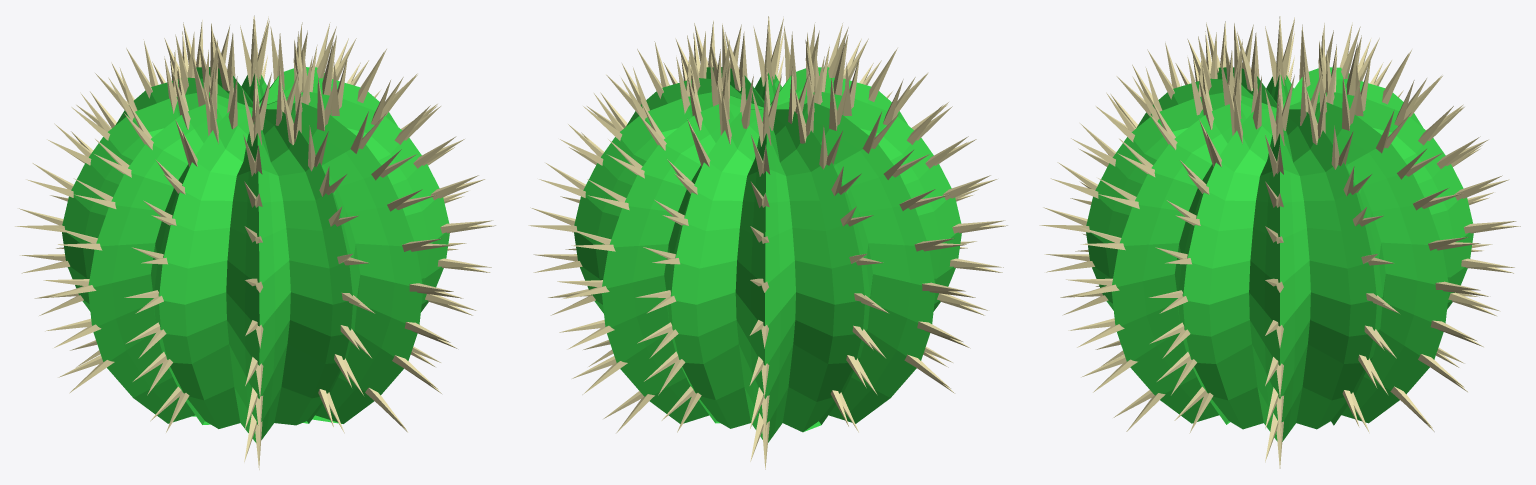
File: cacti1.fbx
3 views of the same model, side by side, from view 1: azimuth 30°, elevation 25°; view 2: azimuth 150°, elevation 25°; view 3: azimuth 270°, elevation 25° (orthographic).
Parts seen in each view (by area): view 1: CactusBody.003, CactusBody.003|spike|Dupli|19, CactusBody.003|spike|Dupli|34, CactusBody.003|spike|Dupli|58, CactusBody.003|spike|Dupli|22; view 2: CactusBody.003, CactusBody.003|spike|Dupli|23, CactusBody.003|spike|Dupli|32, CactusBody.003|spike|Dupli|71; view 3: CactusBody.003, CactusBody.003|spike|Dupli|21, CactusBody.003|spike|Dupli|36, CactusBody.003|spike|Dupli|46.
Boxes of the visible parts, x1,y1,x2,y2 form: CactusBody.003: (62, 67, 449, 442); CactusBody.003|spike|Dupli|19: (213, 33, 235, 91); CactusBody.003|spike|Dupli|34: (282, 88, 301, 144); CactusBody.003|spike|Dupli|58: (317, 74, 336, 131); CactusBody.003|spike|Dupli|22: (275, 66, 299, 125); CactusBody.003: (574, 67, 961, 442); CactusBody.003|spike|Dupli|23: (725, 31, 747, 91); CactusBody.003|spike|Dupli|32: (795, 89, 814, 143); CactusBody.003|spike|Dupli|71: (829, 75, 849, 130); CactusBody.003: (1086, 67, 1473, 441); CactusBody.003|spike|Dupli|21: (1237, 31, 1259, 91); CactusBody.003|spike|Dupli|36: (1306, 87, 1325, 144); CactusBody.003|spike|Dupli|46: (1342, 74, 1361, 130).
Size of the model in its own units: 194 by 158 by 195.
